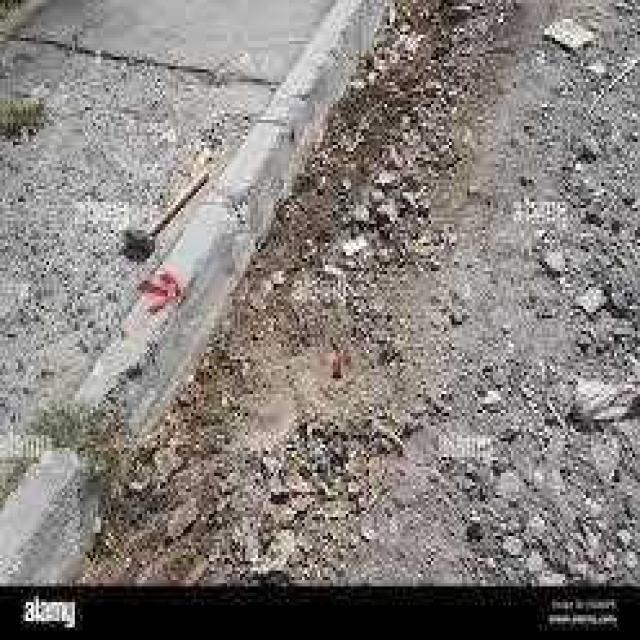curb: (4, 295, 236, 586), (143, 184, 310, 311), (272, 4, 402, 163)
